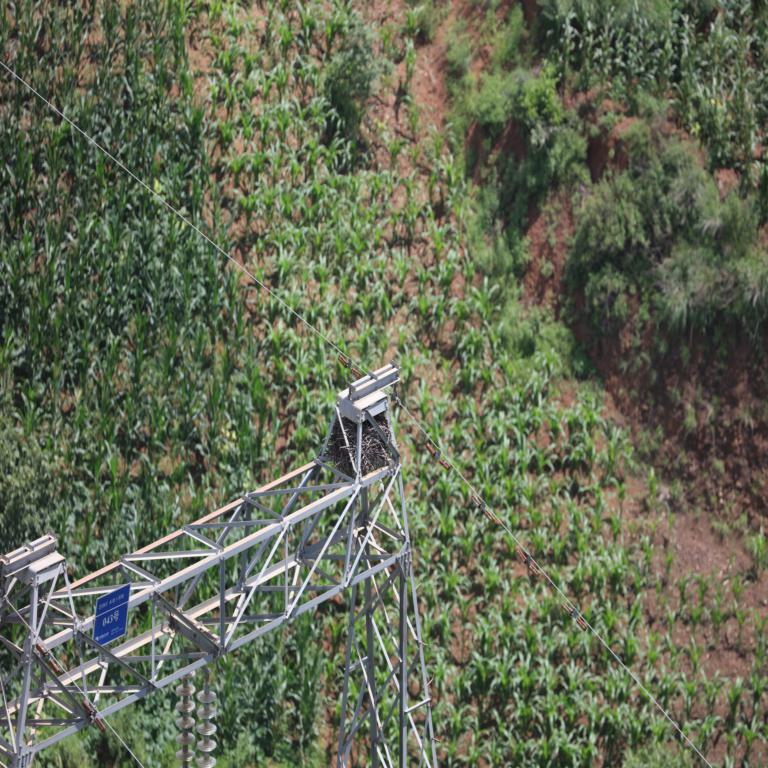nest: (328, 411, 391, 470)
